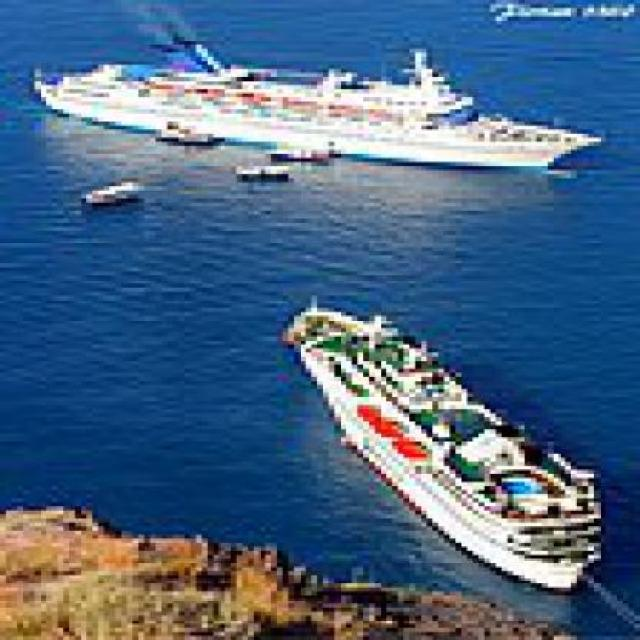cruise: (19, 29, 613, 188)
